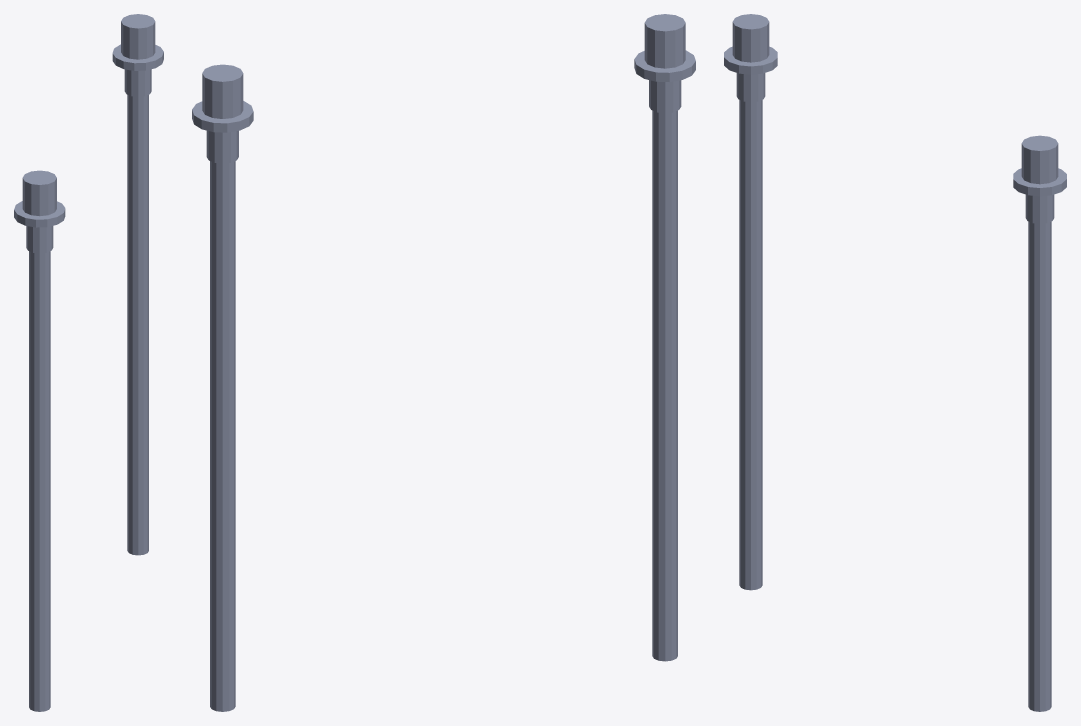
File: Sensors.dae
3 renders of one model, left to right at view 1: azimuth 30°, elevation 25°; view 2: azimuth 150°, elevation 25°; view 3: azimuth 270°, elevation 25°, orthographic. The views are drawn at different scales.
Parts seen in each view (by area): view 1: node0; view 2: node0; view 3: node0.
Boxes of the visible parts, box(x1,y1,x2,y2) form: node0: box(14, 14, 163, 711); node0: box(192, 14, 695, 711); node0: box(724, 14, 1066, 711).
Bounding box in the file's own units: 0.119 × 0.119 × 0.216.
